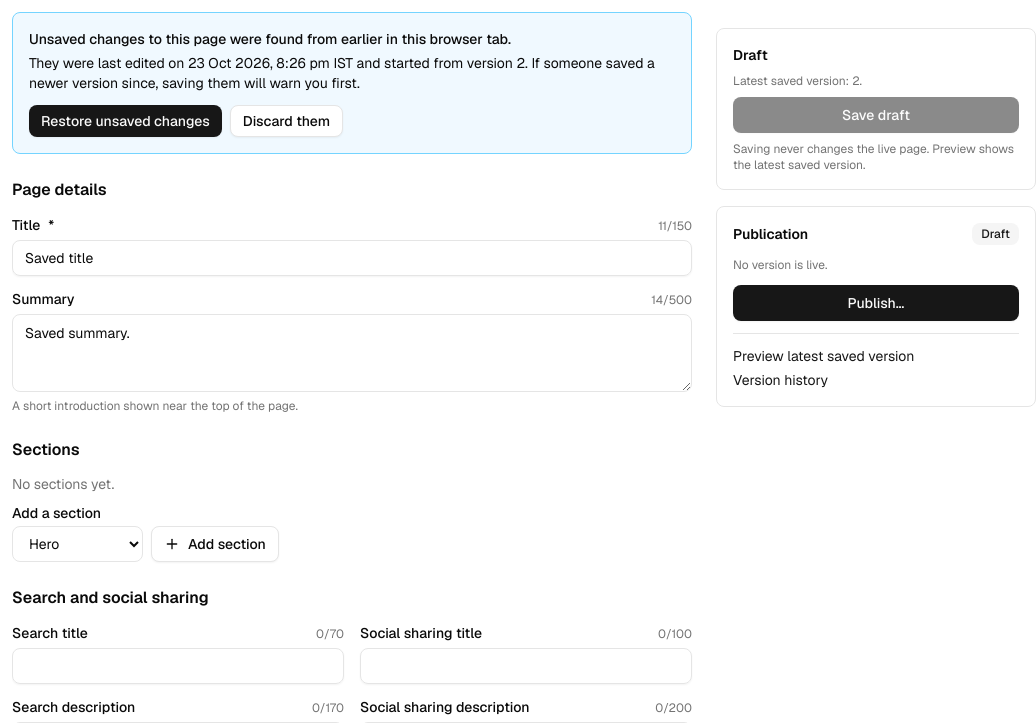
Test: PageEditor unsaved-draft safety copy › lets the user discard a recovered copy
What coordinates should you click on to do the following:
click the button "Discard them"
I would click on:
 (286, 121)
Its box is [230,105,343,137].
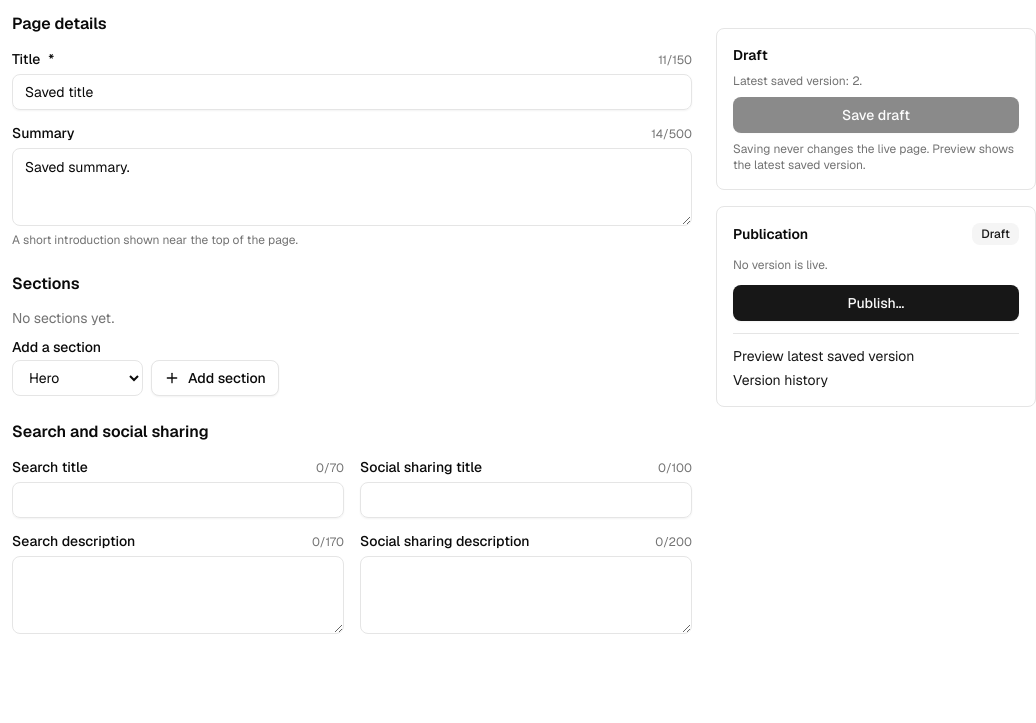
Expected: the field labelled "Title *" holds "Saved title", [12,74,692,110]
Now the message is gone
